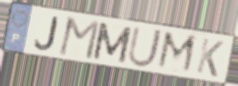J: (33, 15, 60, 52)
K: (194, 37, 225, 79)
M: (154, 29, 199, 77), (56, 16, 102, 62), (90, 21, 134, 65)
U: (126, 25, 165, 69)
